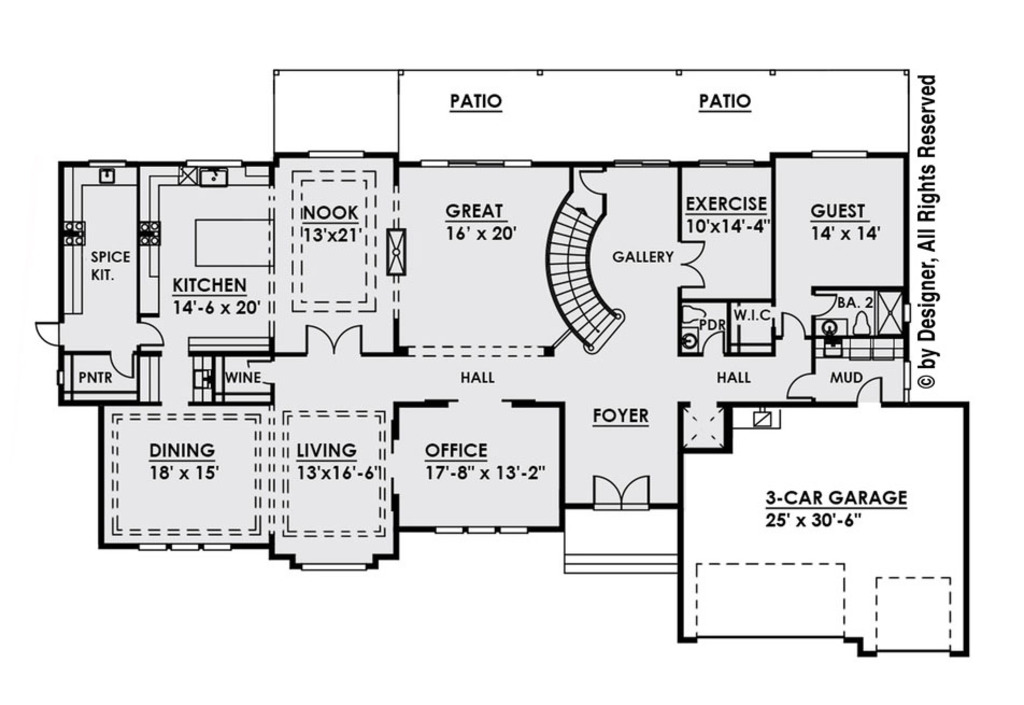door: (303, 325, 366, 360), (589, 474, 653, 508), (679, 237, 709, 294), (29, 317, 65, 351), (777, 308, 806, 342), (139, 319, 167, 349), (784, 370, 812, 400), (812, 289, 840, 318), (856, 376, 883, 405), (108, 350, 134, 377)
large_sink: (847, 306, 874, 336), (680, 301, 706, 323)
small_sink: (684, 323, 699, 355)
stairs: (542, 186, 625, 351)
windows: (427, 523, 534, 539), (131, 538, 232, 554), (294, 559, 374, 573)
